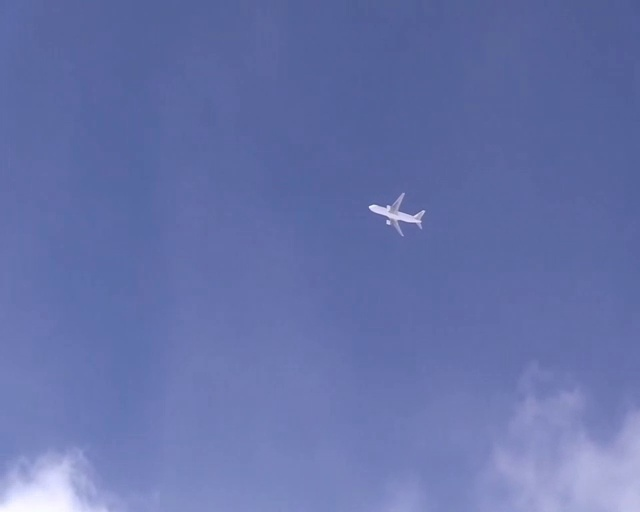AIRPLANE: (368, 191, 425, 236)
